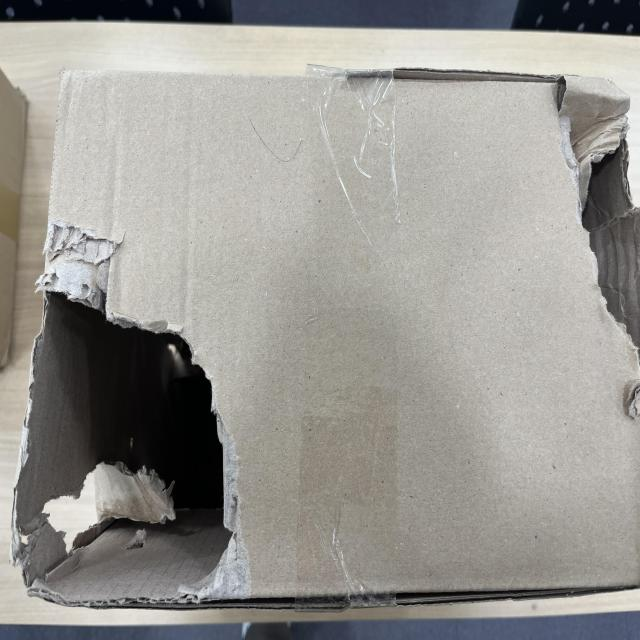damaged: (27, 21, 313, 328)
